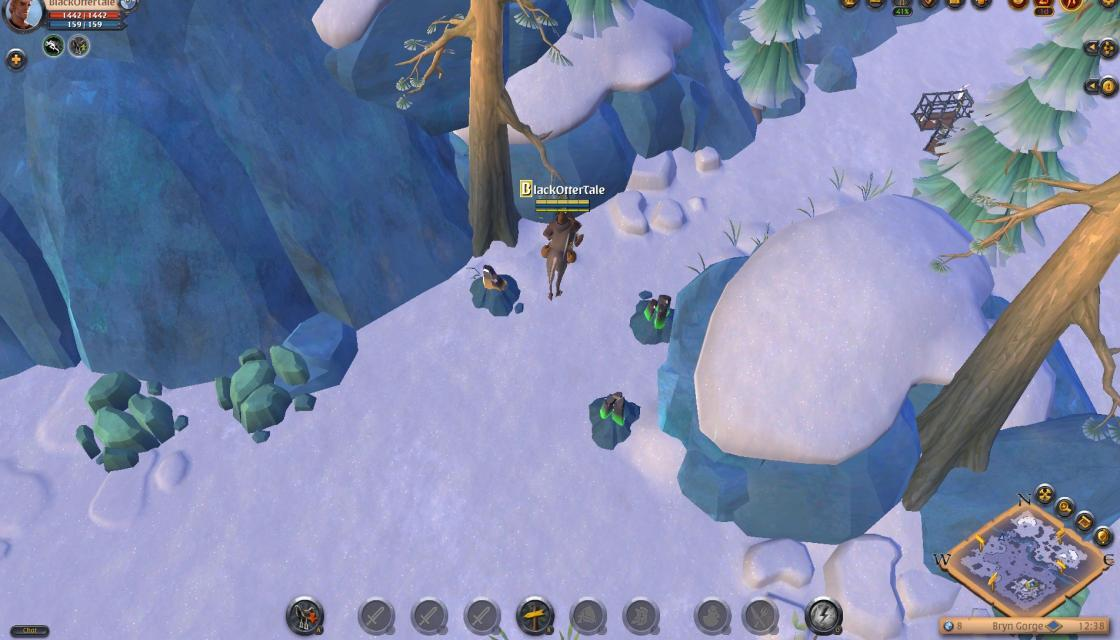copperore: (468, 260, 523, 320)
sandstone: (74, 364, 181, 476), (213, 343, 314, 439)
tinore: (583, 386, 641, 442), (626, 293, 685, 346)
